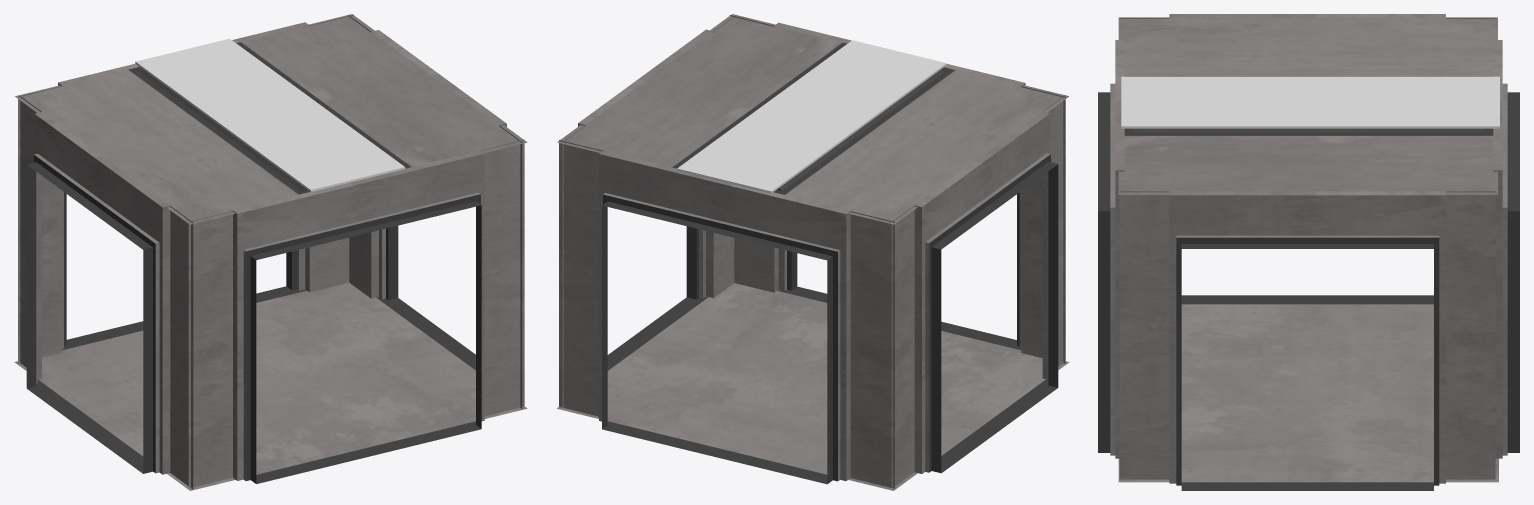
The model's file is hallway_corner1234.fbx.
The picture shows the model from 3 angles, left to right: view 1: azimuth 30°, elevation 25°; view 2: azimuth 150°, elevation 25°; view 3: azimuth 270°, elevation 25°; orthographic projection. The views are drawn at different scales.
Visible parts, largest first — view 1: wall_door_frame008, ciling001, floor002, wall_door_frame007, light002, wall_door_frame005, wall_door_frame006; view 2: wall_door_frame005, ciling001, floor002, wall_door_frame007, light002, wall_door_frame008, wall_door_frame006; view 3: wall_door_frame006, ciling001, floor002, light002, wall_door_frame005, wall_door_frame008, wall_door_frame007.
Part boxes in pixels (left/top/right/bottom): wall_door_frame008: left=188, top=139, right=524, bottom=488; ciling001: left=15, top=14, right=527, bottom=224; floor002: left=14, top=283, right=527, bottom=490; wall_door_frame007: left=19, top=95, right=193, bottom=489; light002: left=135, top=38, right=405, bottom=191; wall_door_frame005: left=18, top=14, right=353, bottom=363; wall_door_frame006: left=348, top=15, right=522, bottom=408; wall_door_frame005: left=559, top=140, right=894, bottom=488; ciling001: left=557, top=14, right=1068, bottom=224; floor002: left=557, top=283, right=1069, bottom=490; wall_door_frame007: left=891, top=95, right=1065, bottom=488; light002: left=677, top=40, right=946, bottom=193; wall_door_frame008: left=729, top=15, right=1065, bottom=363; wall_door_frame006: left=562, top=15, right=736, bottom=408; wall_door_frame006: left=1119, top=191, right=1495, bottom=490; ciling001: left=1118, top=17, right=1497, bottom=194; floor002: left=1118, top=304, right=1498, bottom=482; light002: left=1121, top=76, right=1499, bottom=128; wall_door_frame005: left=1493, top=40, right=1519, bottom=458; wall_door_frame008: left=1098, top=40, right=1124, bottom=458; wall_door_frame007: left=1119, top=14, right=1495, bottom=304.
Size of the model in its own units: 34.98 by 24.31 by 31.84.
